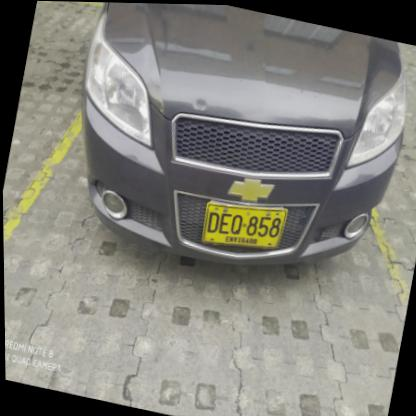placa: (194, 191, 291, 262)
